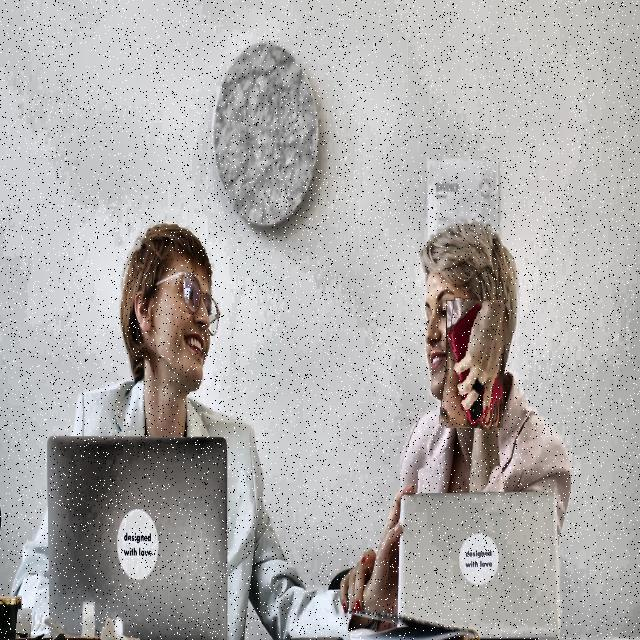Phone: (442, 299, 507, 429)
